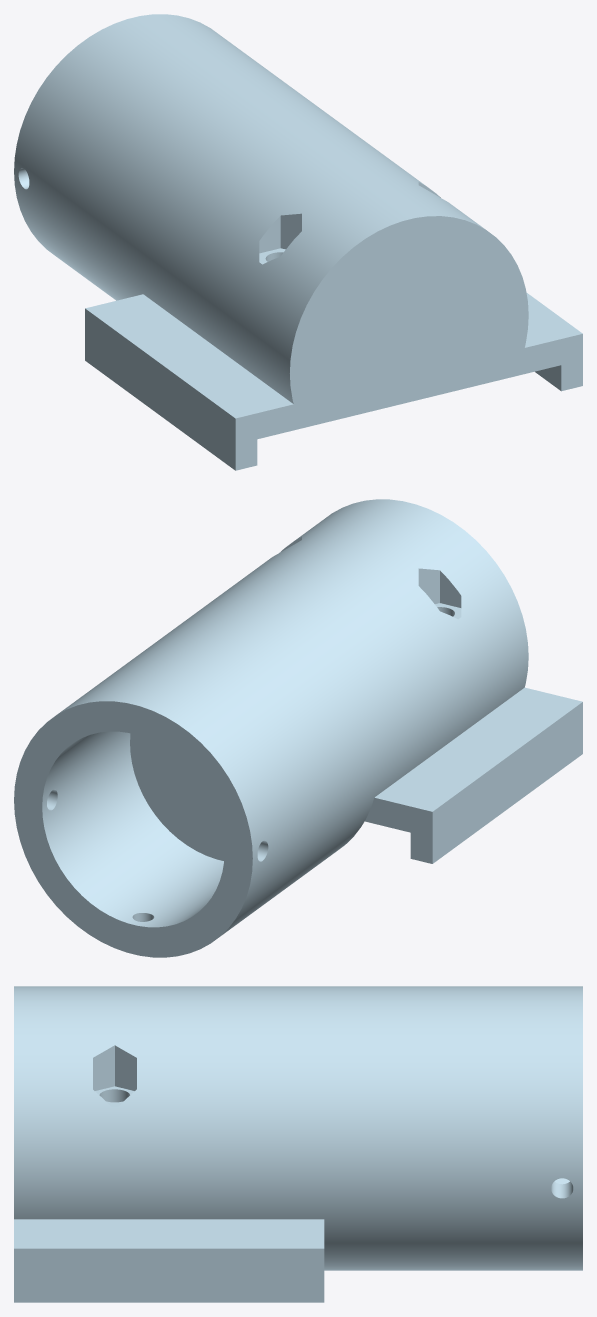
3 views of the same model, one above another, from view 1: azimuth 30°, elevation 25°; view 2: azimuth 150°, elevation 25°; view 3: azimuth 270°, elevation 25° (orthographic). The views are drawn at different scales.
Parts seen in each view (by area): view 1: mesh473, mesh496, mesh490, mesh491, mesh488, mesh477; view 2: mesh473, mesh467, mesh469, mesh490, mesh491, mesh468, mesh493, mesh474; view 3: mesh473, mesh489, mesh488, mesh478, mesh479.
Boxes of the visible parts, x1=… form: mesh473: x1=14, y1=14, x2=485, y2=403; mesh496: x1=235, y1=216, x2=582, y2=470; mesh490: x1=85, y1=294, x2=293, y2=418; mesh491: x1=85, y1=308, x2=235, y2=470; mesh488: x1=525, y1=292, x2=582, y2=347; mesh477: x1=280, y1=213, x2=301, y2=249; mesh473: x1=57, y1=499, x2=528, y2=935; mesh467: x1=42, y1=731, x2=223, y2=927; mesh469: x1=14, y1=701, x2=252, y2=957; mesh490: x1=375, y1=687, x2=582, y2=811; mesh491: x1=432, y1=702, x2=582, y2=863; mesh468: x1=130, y1=733, x2=224, y2=860; mesh493: x1=365, y1=797, x2=432, y2=863; mesh474: x1=418, y1=568, x2=439, y2=603; mesh473: x1=14, y1=986, x2=582, y2=1270; mesh489: x1=14, y1=1248, x2=324, y2=1302; mesh488: x1=14, y1=1219, x2=324, y2=1248; mesh478: x1=93, y1=1045, x2=114, y2=1090; mesh479: x1=115, y1=1045, x2=136, y2=1090.
Size of the model in its own units: 0.08 by 0.055 by 0.11.
